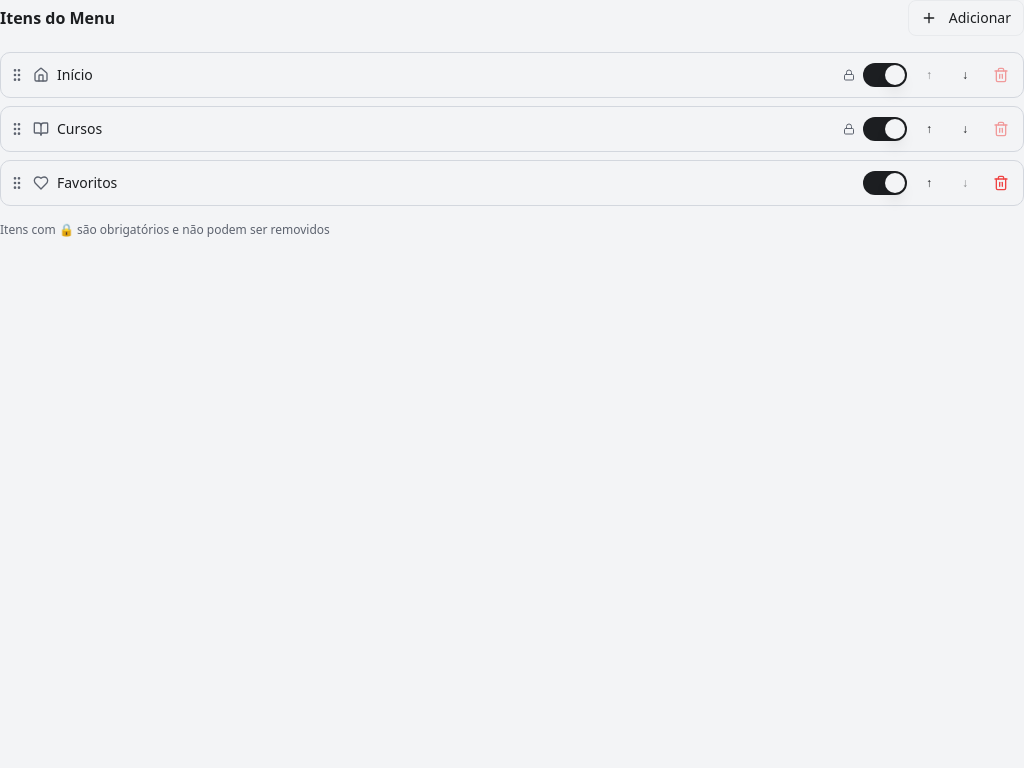
Scenario: MenuEditor › Add Item Dialog › should open dialog when add button clicked
Click the button "Adicionar": [966, 18] box [908,0,1023,36]
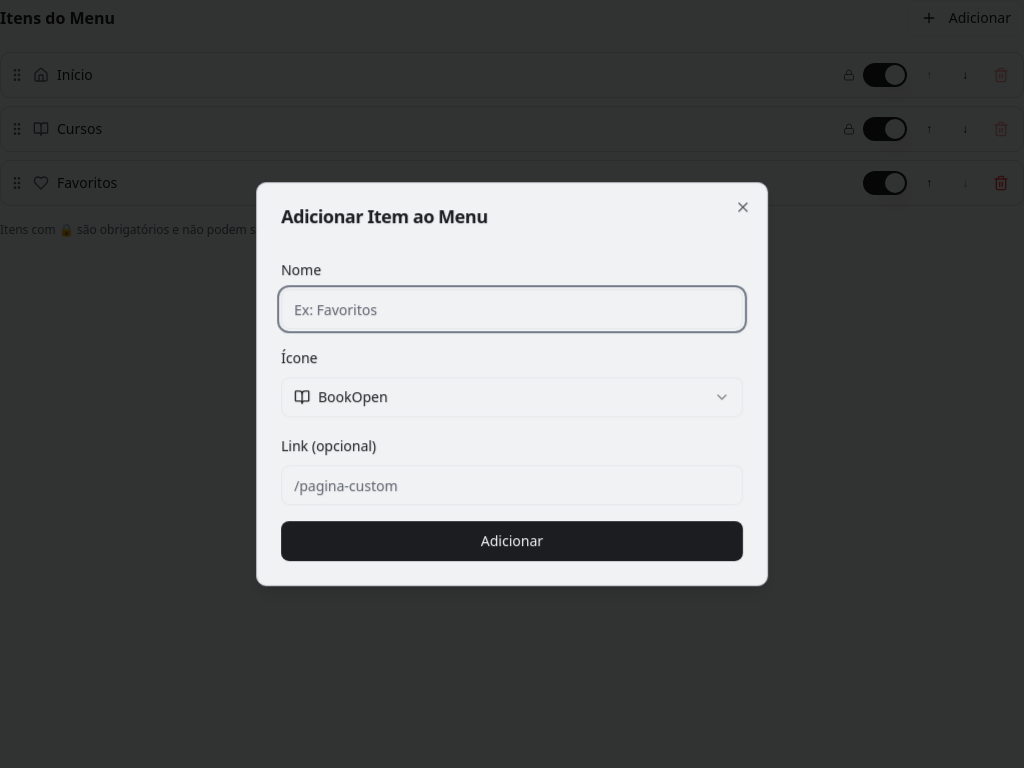
Expected: the heading "Adicionar Item ao Menu" is shown, [281,204,488,228]
